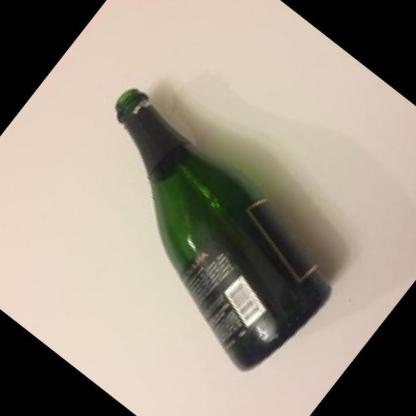Can: (115, 86, 333, 373)
